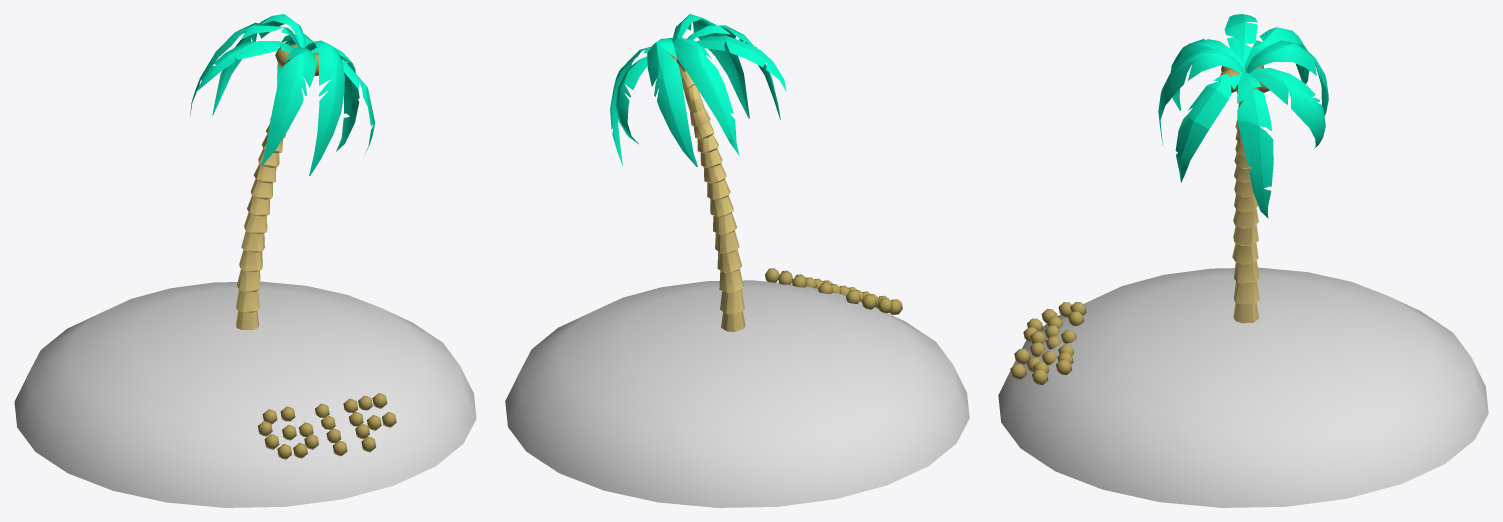
Rendered from PalmTree_edit.fbx.
3 views of the same model, side by side, from view 1: azimuth 30°, elevation 25°; view 2: azimuth 150°, elevation 25°; view 3: azimuth 270°, elevation 25° (orthographic). The views are drawn at different scales.
Parts seen in each view (by area): view 1: Island, Palm_leaf, Palm_trunk, GIF_coco1; view 2: Island, Palm_leaf, Palm_trunk, GIF_coco1; view 3: Island, Palm_leaf, Palm_trunk, GIF_coco1.
Boxes of the visible parts, x1,y1,x2,y2 form: Island: [14, 281, 476, 507]; Palm_leaf: [190, 14, 374, 175]; Palm_trunk: [236, 118, 285, 329]; GIF_coco1: [258, 393, 396, 459]; Island: [505, 280, 969, 507]; Palm_leaf: [610, 14, 786, 166]; Palm_trunk: [671, 54, 745, 331]; GIF_coco1: [765, 268, 902, 315]; Island: [998, 267, 1488, 507]; Palm_leaf: [1158, 14, 1328, 218]; Palm_trunk: [1232, 71, 1259, 323]; GIF_coco1: [1010, 302, 1086, 384].
Bounding box in the file's own units: 598 × 525 × 598.
